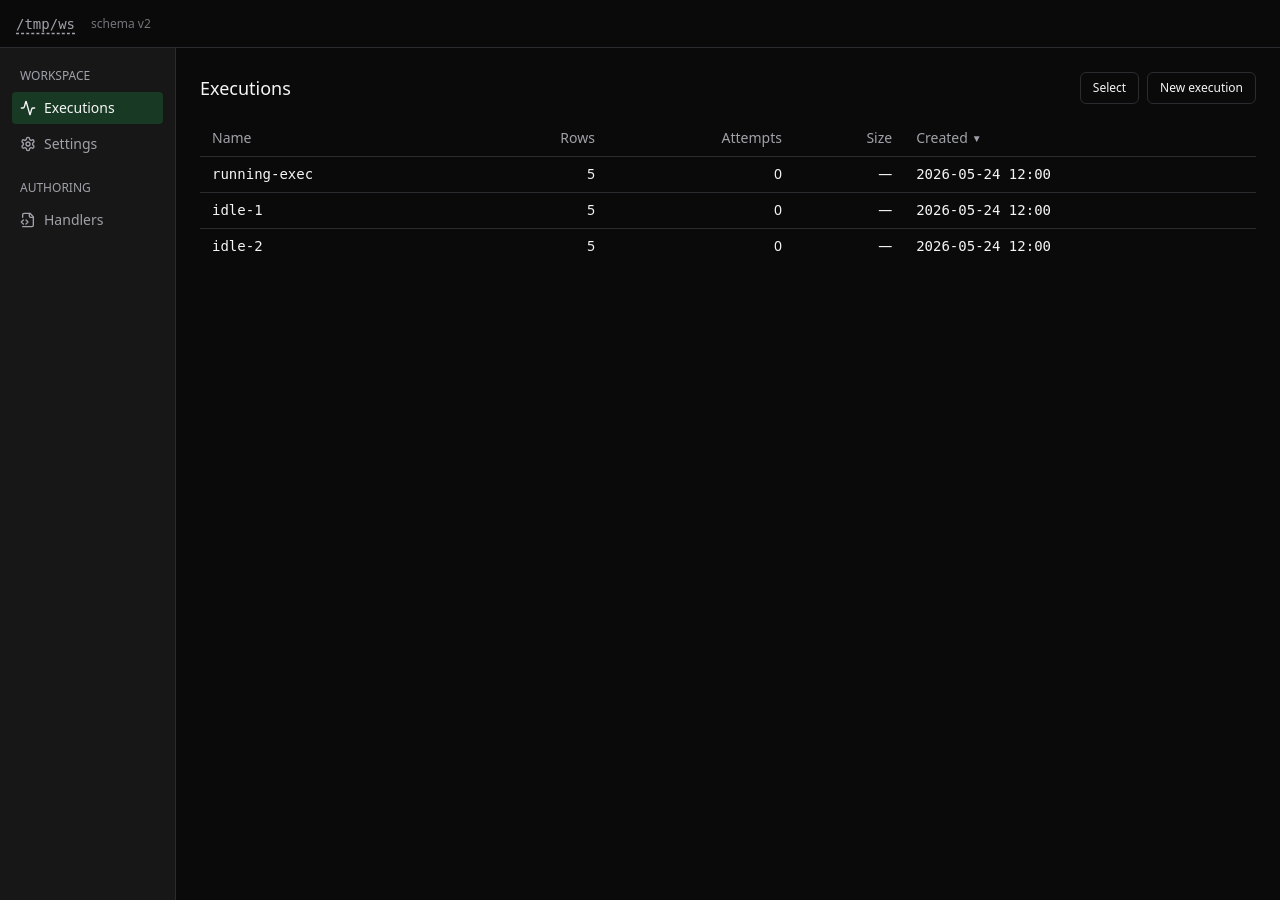
Test: ExecList — Select mode › master checkbox toggles all selectable rows; active rows stay unchecked
Expected: the text "idle-1" is shown, top-left (200, 192), bottom-right (477, 228)
Click the button "Select".
click(1109, 88)  # box top-left (1080, 72), bottom-right (1139, 104)
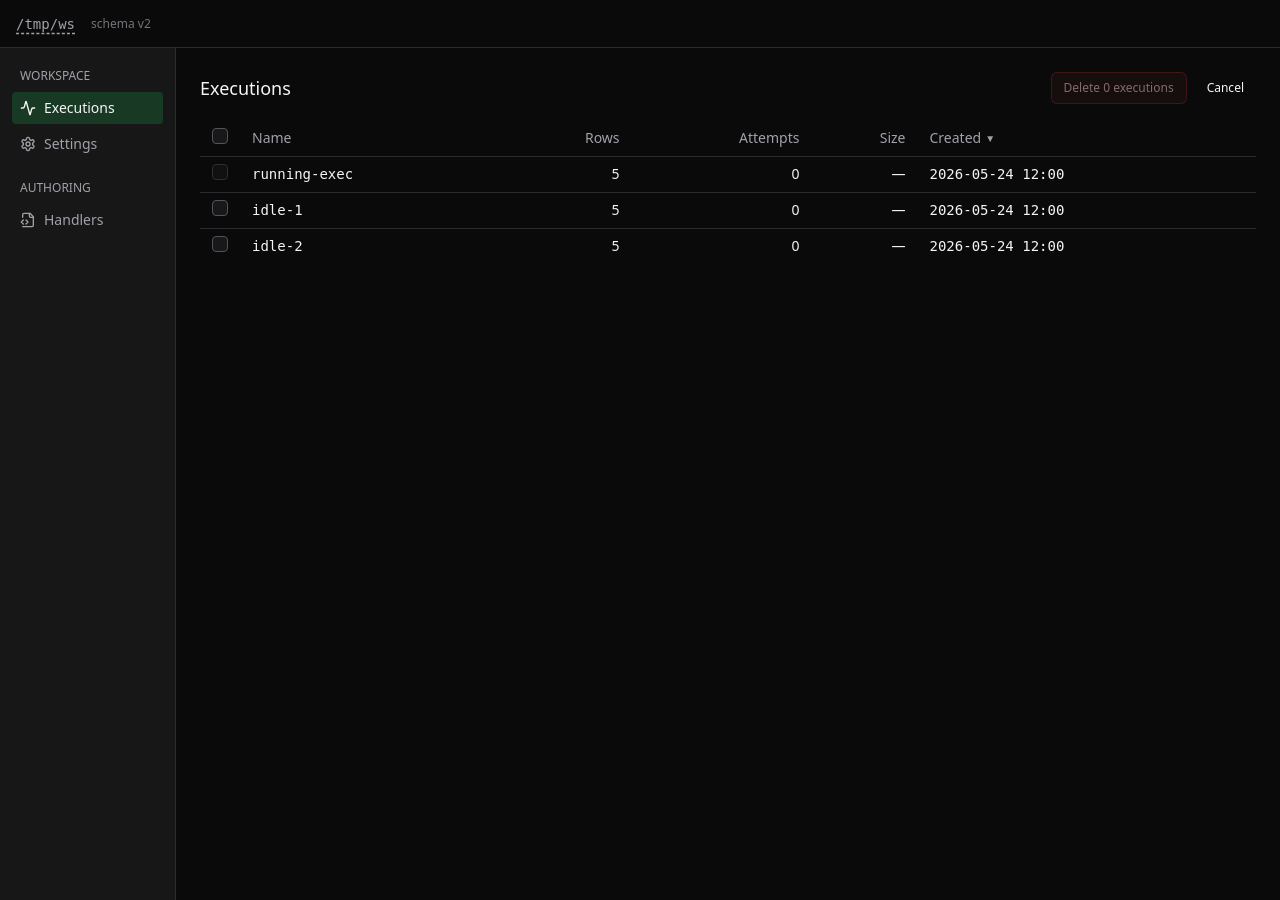
Now the number of checkboxes is 4
# Click master → should select e1 + e2 but NOT e-active
Click the checkbox named "Select all".
click(220, 136)  # box top-left (212, 128), bottom-right (228, 144)
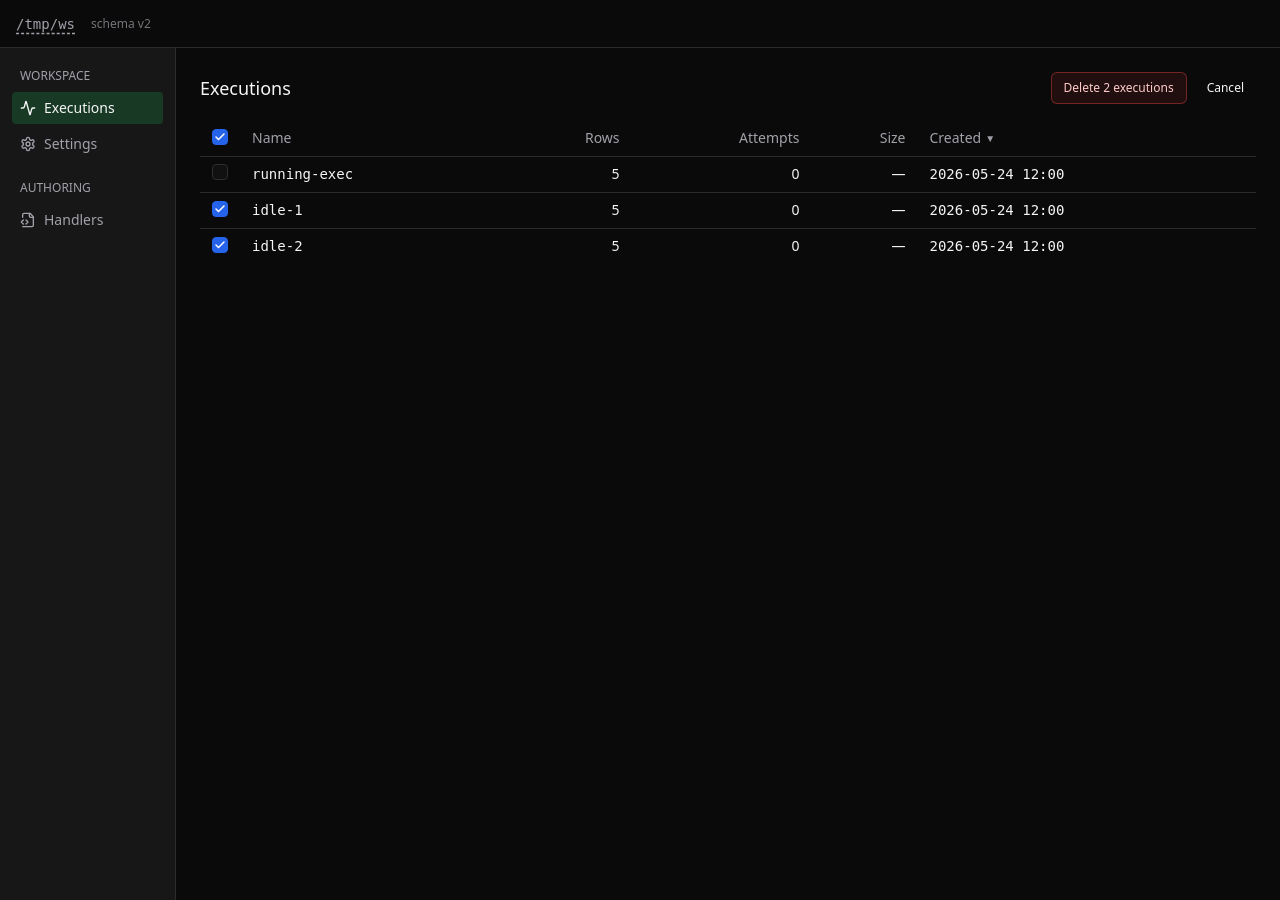
Now the button "Delete 2 executions" is enabled, box top-left (1051, 72), bottom-right (1187, 104)
# Click master again → deselects all
Click the checkbox named "Select all".
click(220, 137)  # box top-left (212, 129), bottom-right (228, 145)
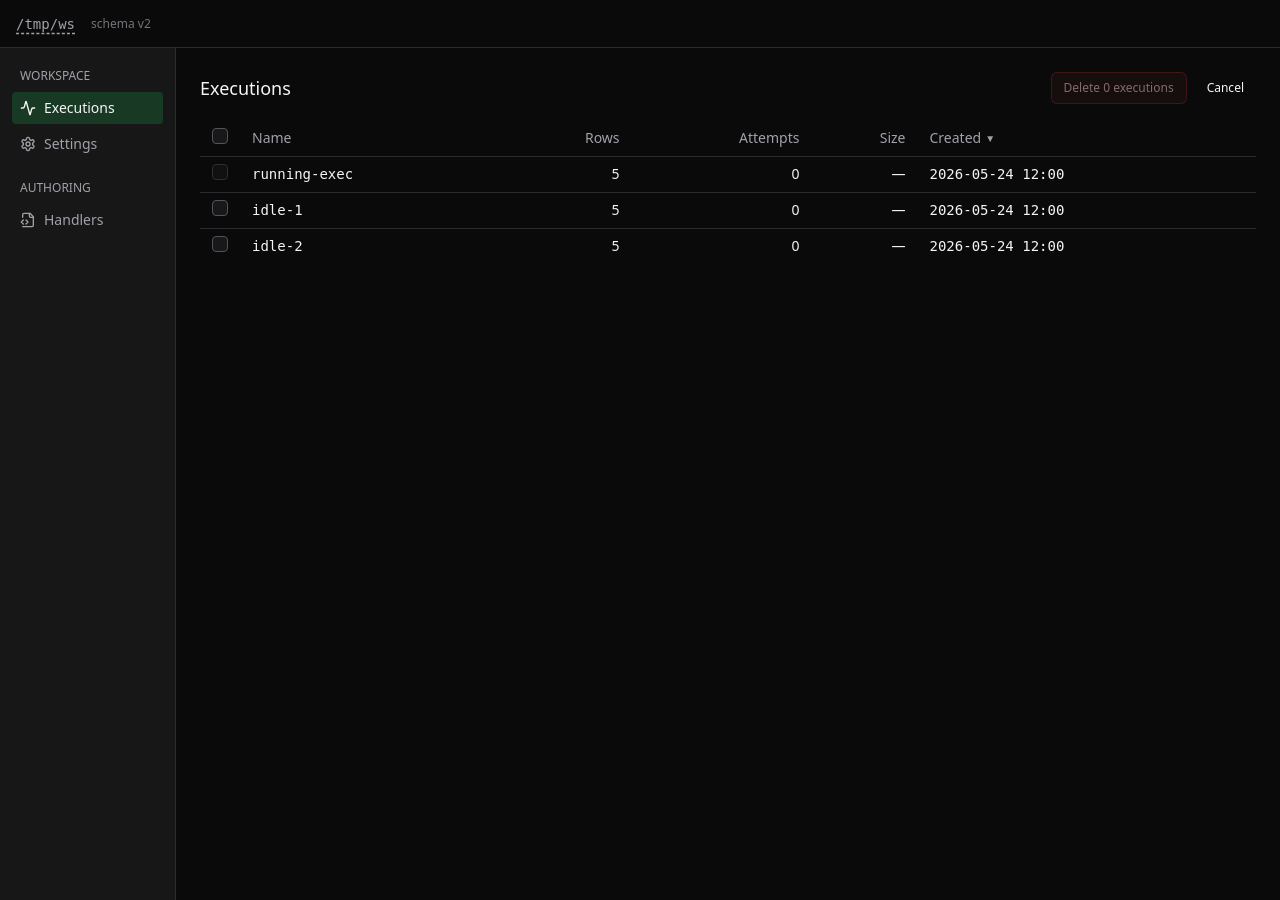
Now the button "Delete 0 executions" is disabled, box top-left (1051, 72), bottom-right (1187, 104)
